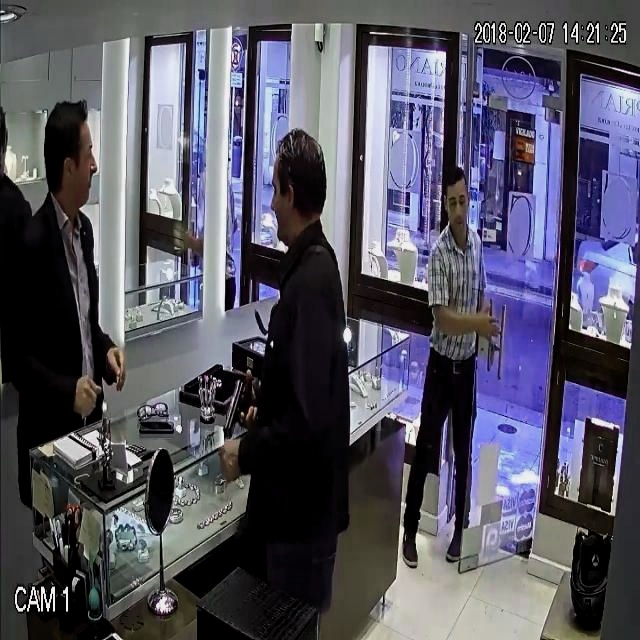gun: (217, 348, 261, 467)
